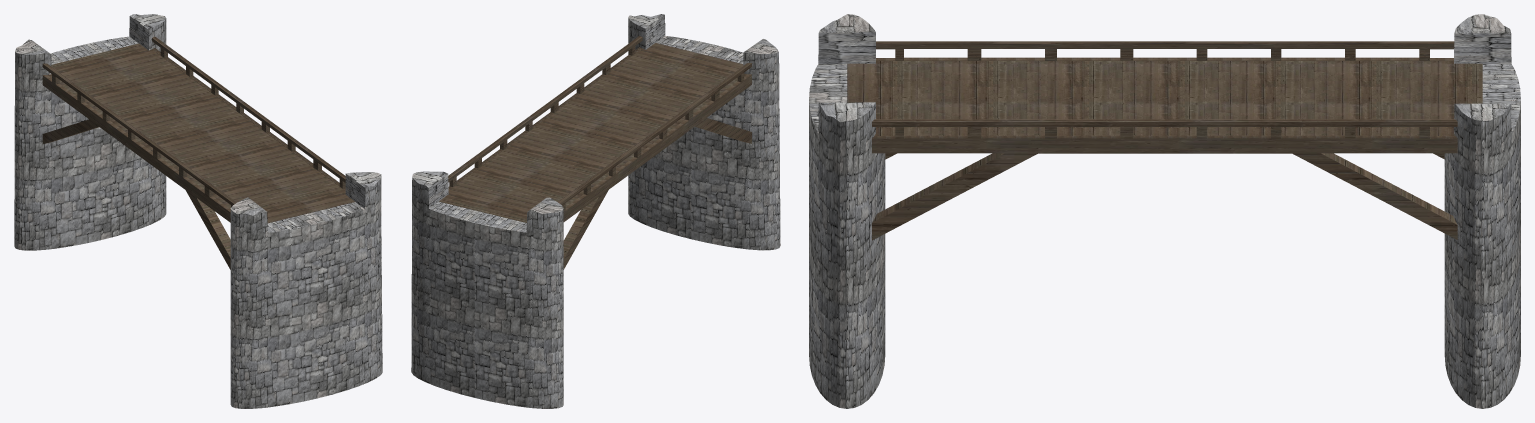
File: smolbrig.fbx
3 views of the same model, side by side, from view 1: azimuth 30°, elevation 25°; view 2: azimuth 150°, elevation 25°; view 3: azimuth 270°, elevation 25° (orthographic). The views are drawn at different scales.
Parts seen in each view (by area): view 1: river Bridge; view 2: river Bridge; view 3: river Bridge.
Part boxes in pixels (box(x1,y1,x2,y2)): river Bridge: box(14, 14, 382, 408); river Bridge: box(411, 14, 780, 408); river Bridge: box(809, 14, 1520, 408).
Size of the model in its own units: 800 by 1003 by 2240.
